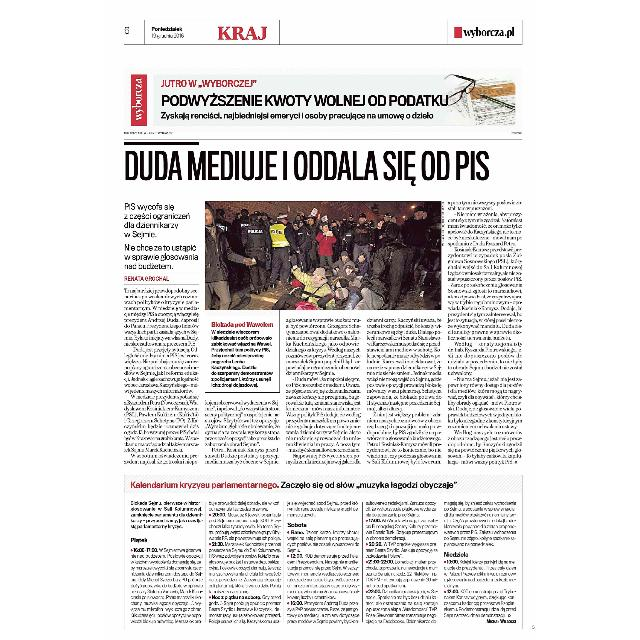article: (121, 140, 524, 468), (122, 474, 524, 630)
